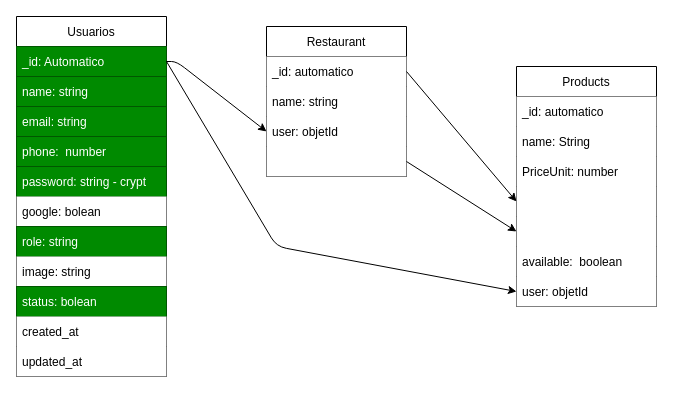
The diagram is 673 pixels wide and 393 high, and some of its shapes have lost their labels. The shapes that lost their labels are listed below. From the top down, each one's centre as x and y in pixels, then its label:
At point (336, 161): "category: String".
At point (586, 201): "restaurant: objetId".
At point (586, 231): "categoryId: objetId".
